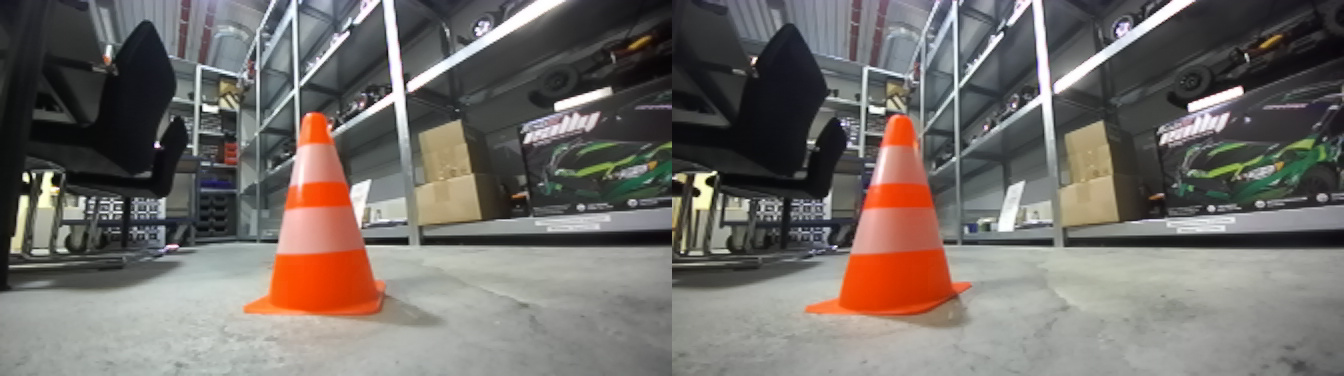cone: (813, 118, 976, 324), (239, 114, 397, 325)
